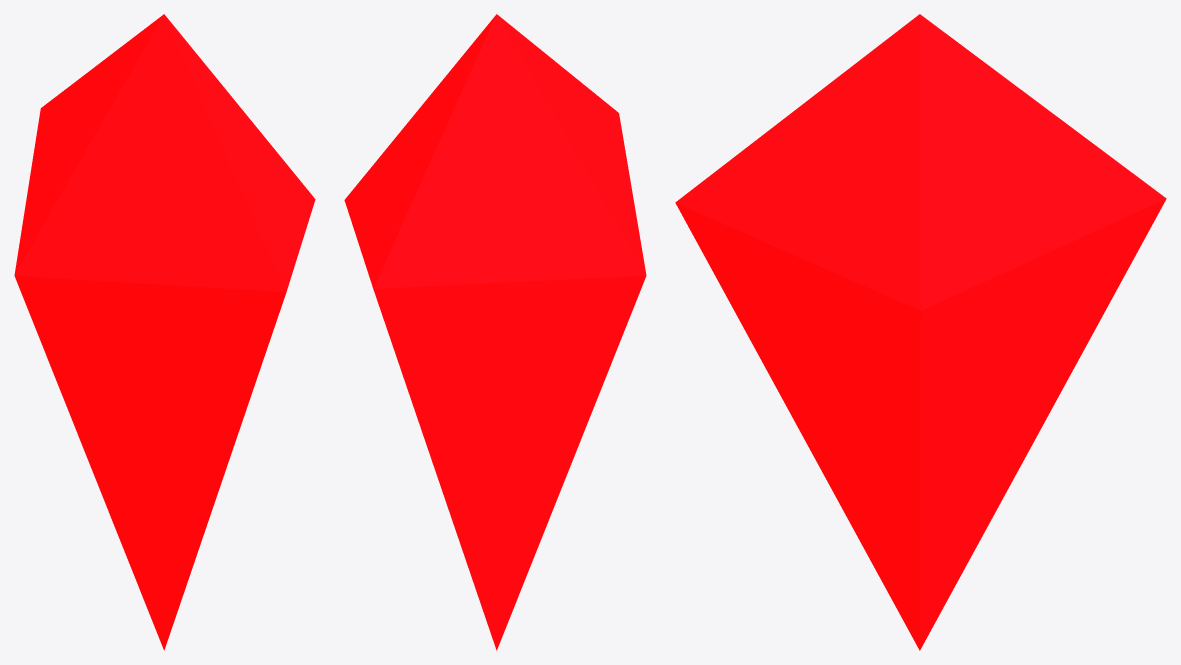
The model's file is core.fbx.
3 renders of one model, left to right at view 1: azimuth 30°, elevation 25°; view 2: azimuth 150°, elevation 25°; view 3: azimuth 270°, elevation 25°, orthographic.
Visible parts, largest first — view 1: Cube; view 2: Cube; view 3: Cube.
Boxes of the visible parts, x1,y1,x2,y2 form: Cube: (14,14,315,650); Cube: (344,14,646,650); Cube: (675,14,1166,650).
Bounding box in the file's own units: 142 × 287 × 201.
